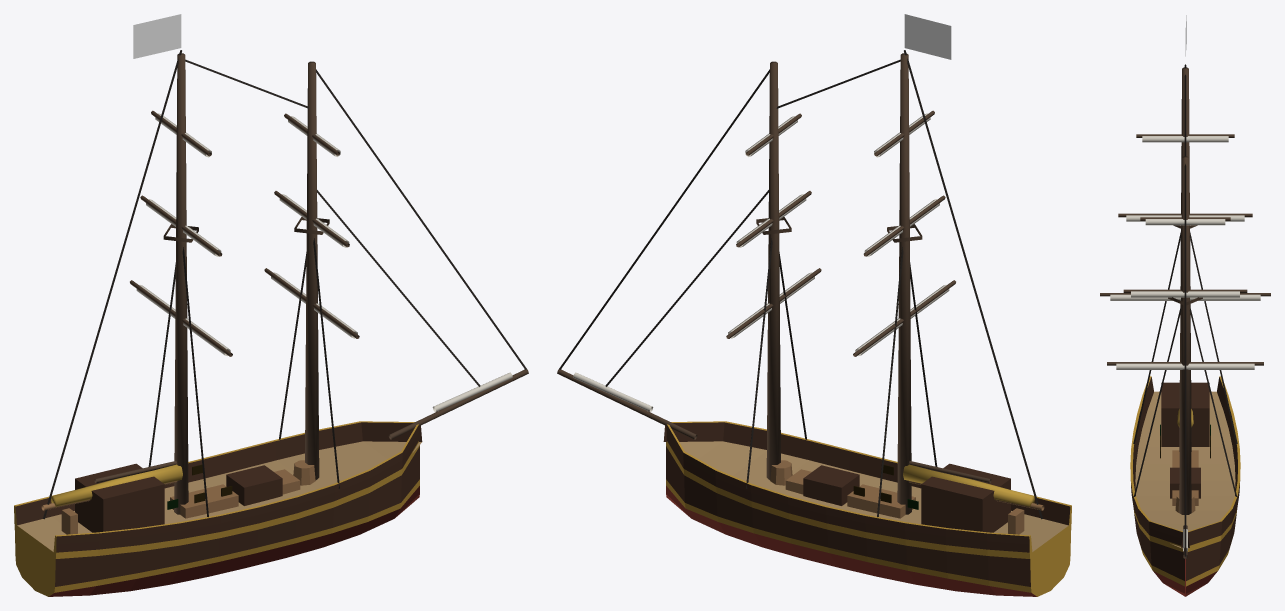
The model's file is hull_brig_large_docked.glb.
3 renders of one model, left to right at view 1: azimuth 30°, elevation 25°; view 2: azimuth 150°, elevation 25°; view 3: azimuth 270°, elevation 25°, orthographic. The views are drawn at different scales.
Parts seen in each view (by area): view 1: hull_brig_large_docked_hull, hull_brig_large_docked_mast, hull_brig_large_docked_deck, hull_brig_large_docked_rigging, hull_brig_large_docked_sail_furled, hull_brig_large_docked_deckgear, hull_brig_large_docked_flag, hull_brig_large_docked_sail_cover_fore; view 2: hull_brig_large_docked_hull, hull_brig_large_docked_mast, hull_brig_large_docked_deck, hull_brig_large_docked_rigging, hull_brig_large_docked_sail_furled, hull_brig_large_docked_deckgear, hull_brig_large_docked_flag, hull_brig_large_docked_sail_cover_fore; view 3: hull_brig_large_docked_hull, hull_brig_large_docked_mast, hull_brig_large_docked_sail_furled, hull_brig_large_docked_rigging, hull_brig_large_docked_deck, hull_brig_large_docked_deckgear.
Boxes of the visible parts, x1,y1,x2,y2 form: hull_brig_large_docked_hull: (14, 421, 422, 596); hull_brig_large_docked_mast: (94, 53, 528, 514); hull_brig_large_docked_deck: (75, 463, 282, 532); hull_brig_large_docked_rigging: (43, 50, 526, 519); hull_brig_large_docked_sail_furled: (136, 113, 512, 412); hull_brig_large_docked_deckgear: (61, 460, 315, 534); hull_brig_large_docked_flag: (133, 14, 181, 58); hull_brig_large_docked_sail_cover_fore: (51, 464, 182, 506); hull_brig_large_docked_hull: (663, 421, 1071, 596); hull_brig_large_docked_mast: (557, 53, 991, 514); hull_brig_large_docked_deck: (803, 463, 1010, 532); hull_brig_large_docked_rigging: (559, 50, 1042, 519); hull_brig_large_docked_sail_furled: (573, 113, 949, 412); hull_brig_large_docked_deckgear: (770, 460, 1024, 534); hull_brig_large_docked_flag: (904, 14, 951, 59); hull_brig_large_docked_sail_cover_fore: (903, 464, 1034, 506); hull_brig_large_docked_hull: (1130, 376, 1240, 596); hull_brig_large_docked_mast: (1100, 67, 1270, 558); hull_brig_large_docked_sail_furled: (1110, 136, 1260, 551); hull_brig_large_docked_rigging: (1132, 64, 1238, 556); hull_brig_large_docked_deck: (1161, 382, 1209, 498); hull_brig_large_docked_deckgear: (1172, 450, 1198, 512).
Size of the model in its own units: 23.08 by 25.03 by 8.09.
